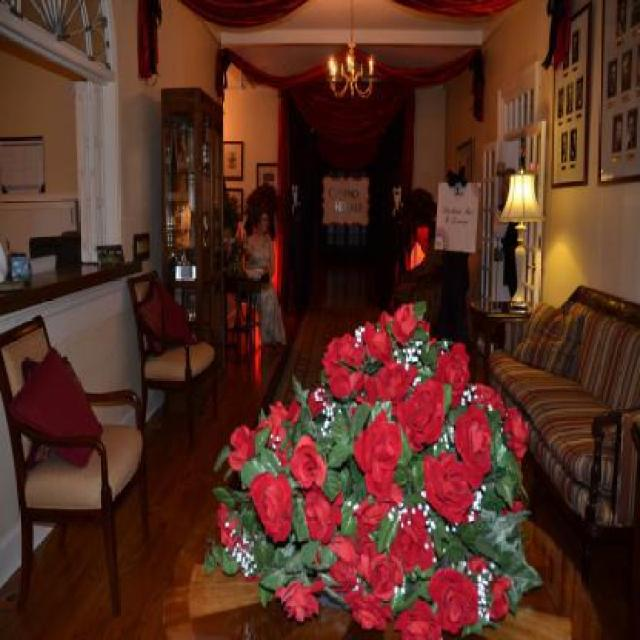Person: (239, 196, 278, 346), (493, 164, 525, 301), (621, 54, 634, 94), (610, 115, 622, 157), (626, 111, 639, 147), (616, 2, 626, 36), (564, 83, 574, 115), (608, 63, 615, 100), (570, 134, 578, 166), (575, 82, 583, 109), (632, 0, 639, 28), (561, 137, 568, 163), (572, 35, 578, 63), (558, 95, 564, 122)
